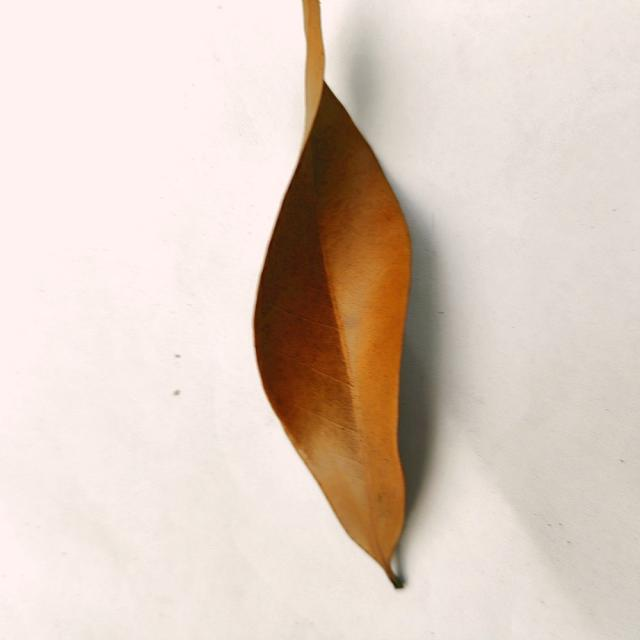Dry_Leaf-Lychee: (253, 80, 413, 588)
